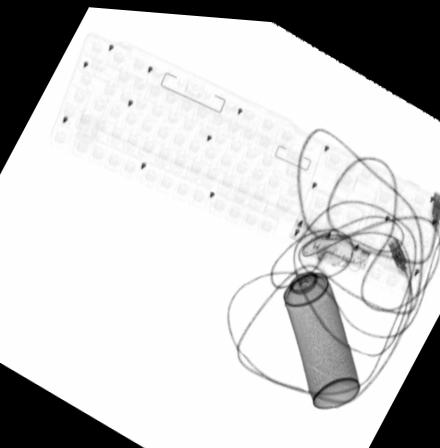Sprayer: (270, 233, 360, 406)
